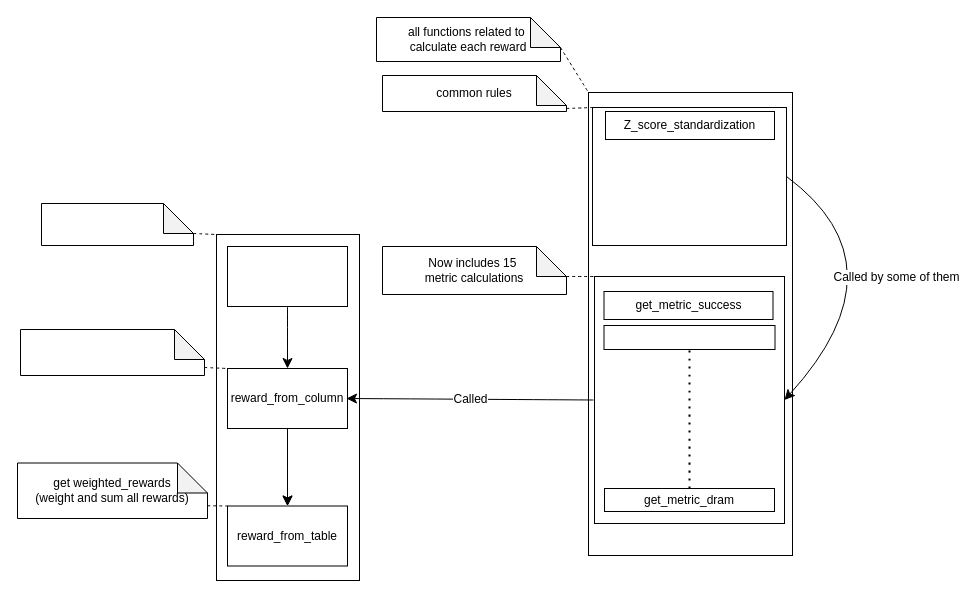
The diagram is 977 pixels wide and 598 high, and some of its shapes have lost their labels. Each missing label, with the box of its shape:
get processed metrices values(single reward): (20, 328, 204, 376)
get_metric_navigation_time: (603, 324, 775, 350)
main flow: (40, 202, 194, 246)
read_csv_data: (226, 246, 348, 306)
